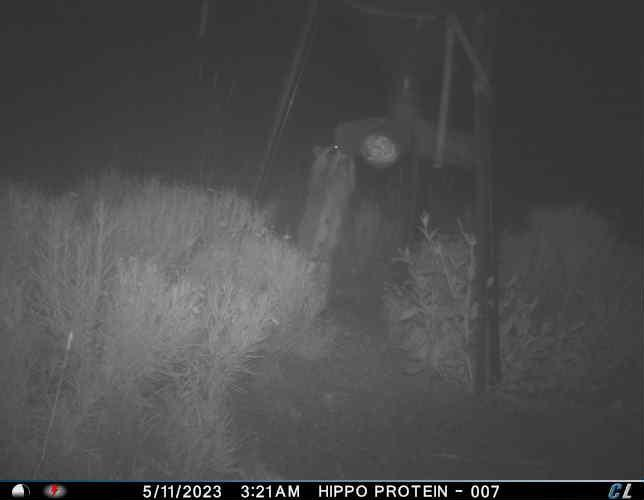Raccoon: (293, 141, 358, 270)
